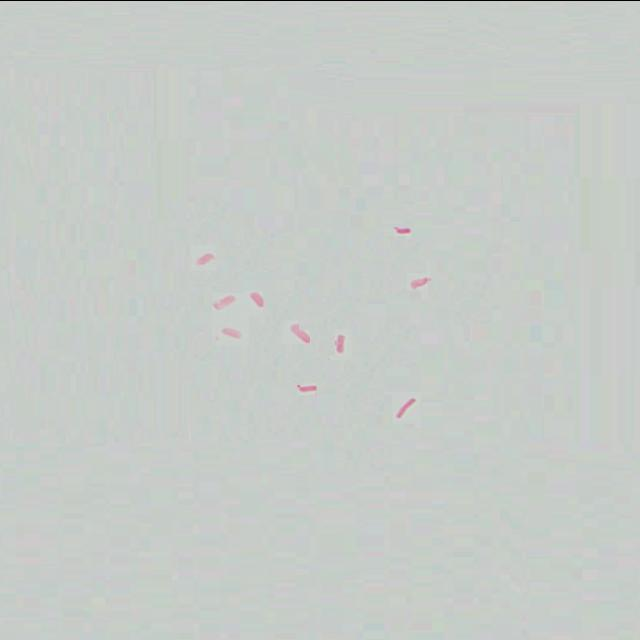E-coli: (290, 320, 318, 346), (394, 395, 421, 419), (249, 290, 273, 310), (219, 326, 251, 341), (210, 295, 240, 311), (293, 382, 323, 397), (392, 223, 419, 237), (194, 252, 219, 266), (336, 334, 349, 357), (412, 276, 434, 288)
